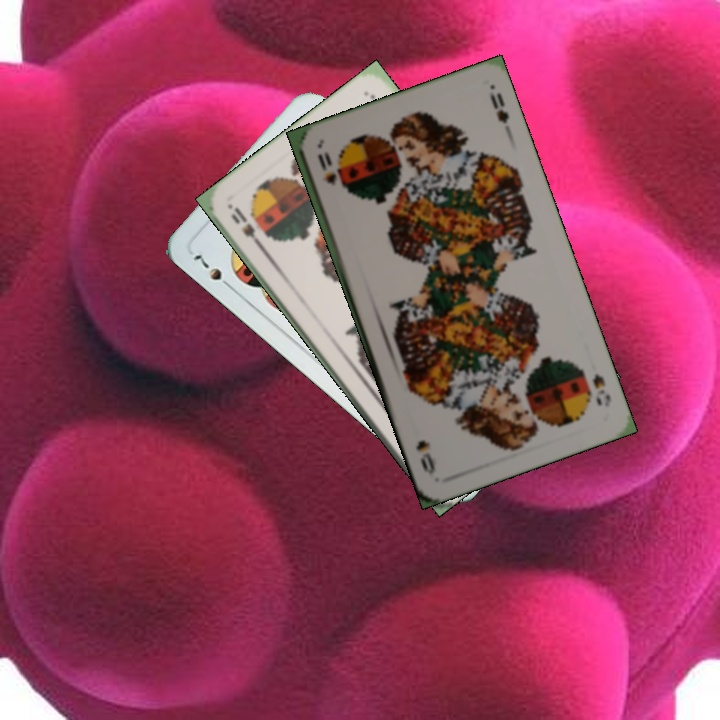S7: (189, 250, 236, 293)
SO: (225, 202, 268, 253), (313, 149, 339, 189), (588, 370, 614, 409)
